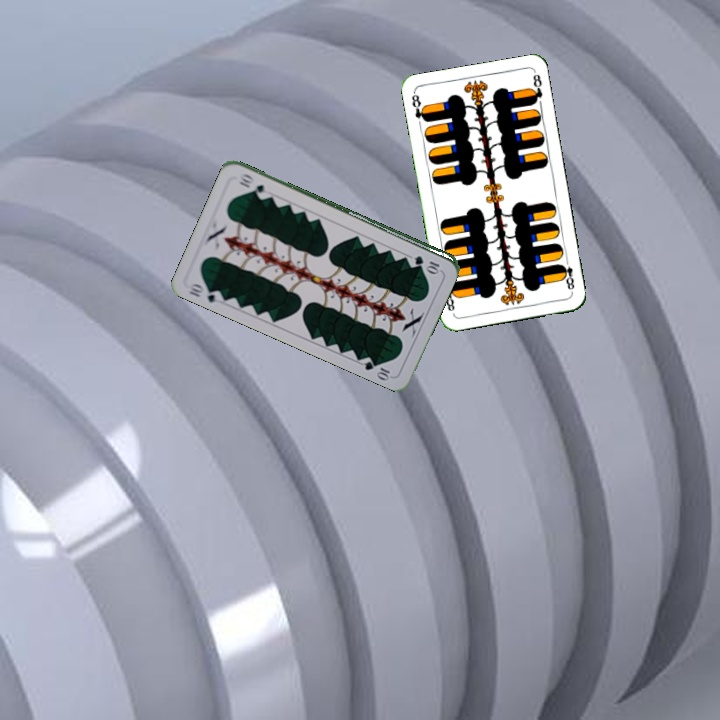E8: (557, 254, 577, 295), (407, 89, 430, 124)
G10: (184, 279, 225, 306), (410, 251, 442, 274)
